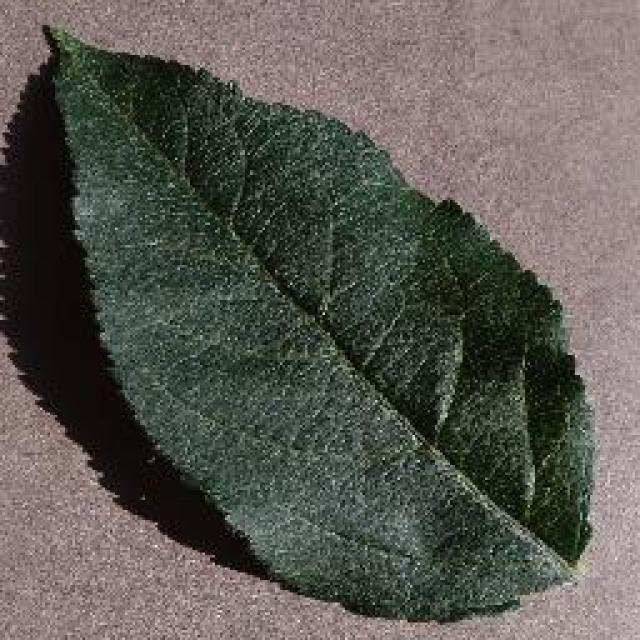apple healthy: (32, 20, 600, 622)
